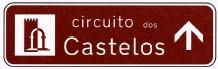identificacao de circuito: (0, 1, 218, 69)
